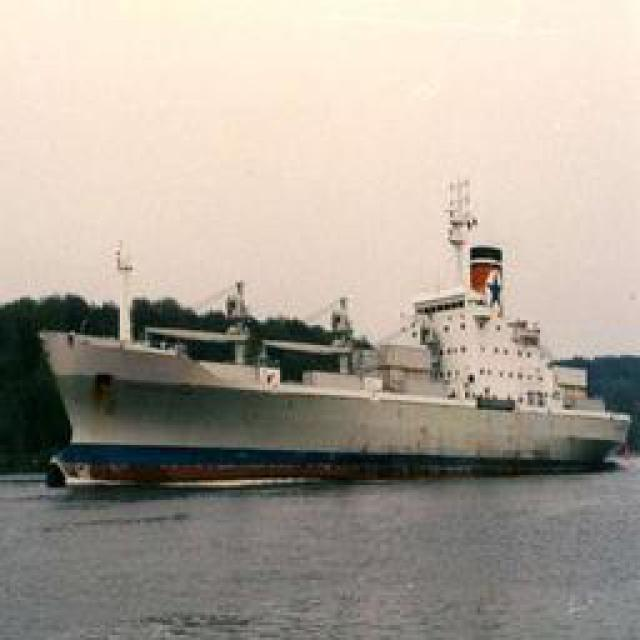Ship: (36, 296, 634, 484)
